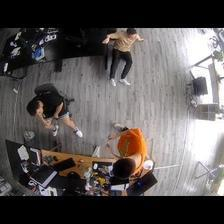normal: (27, 88, 83, 137), (105, 119, 149, 178), (103, 29, 144, 85)
